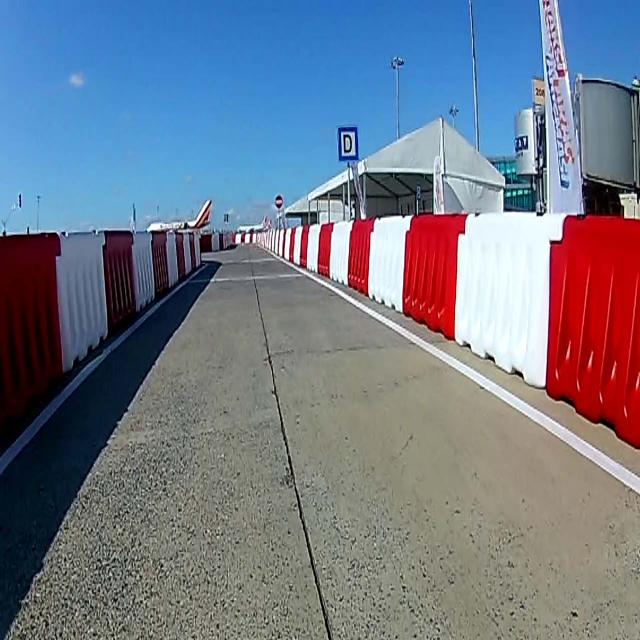durak: (337, 125, 359, 162)
girisyok: (274, 195, 284, 209)
